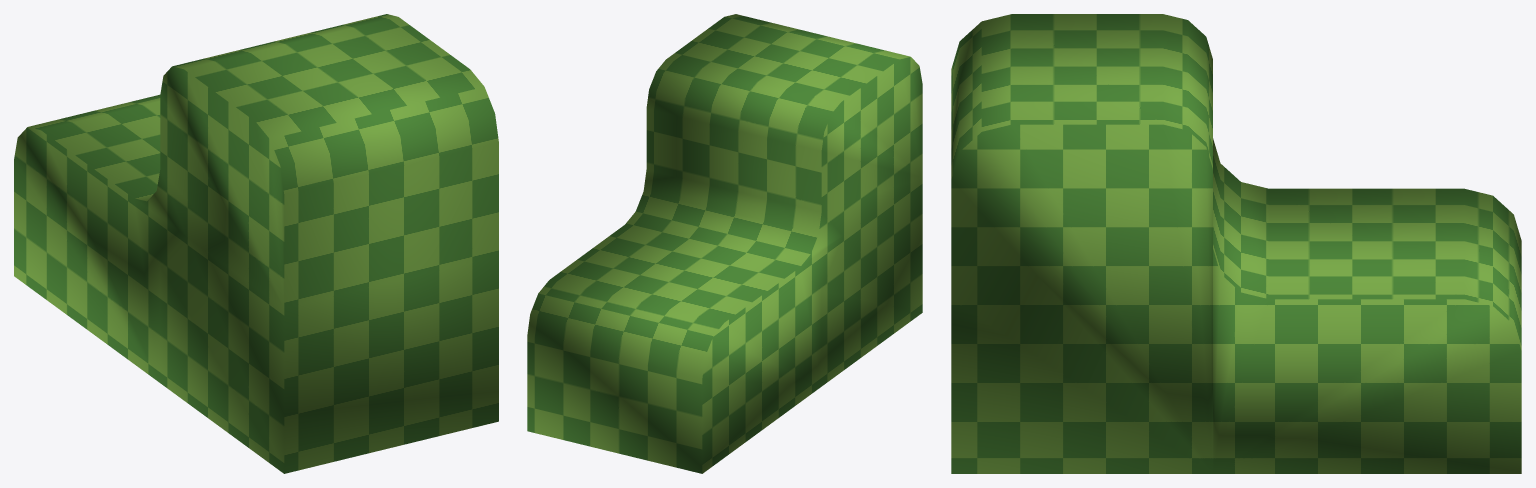
Rendered from terrain.fbx.
3 views of the same model, side by side, from view 1: azimuth 30°, elevation 25°; view 2: azimuth 150°, elevation 25°; view 3: azimuth 270°, elevation 25° (orthographic). The views are drawn at different scales.
Parts seen in each view (by area): view 1: Cube; view 2: Cube; view 3: Cube.
Part boxes in pixels (left/top/right/bottom): Cube: left=14, top=14, right=498, bottom=473; Cube: left=527, top=14, right=922, bottom=473; Cube: left=951, top=14, right=1521, bottom=473.
Bounding box in the file's own units: 200 × 295 × 436.
Materials: 1 (1 with a texture image).
